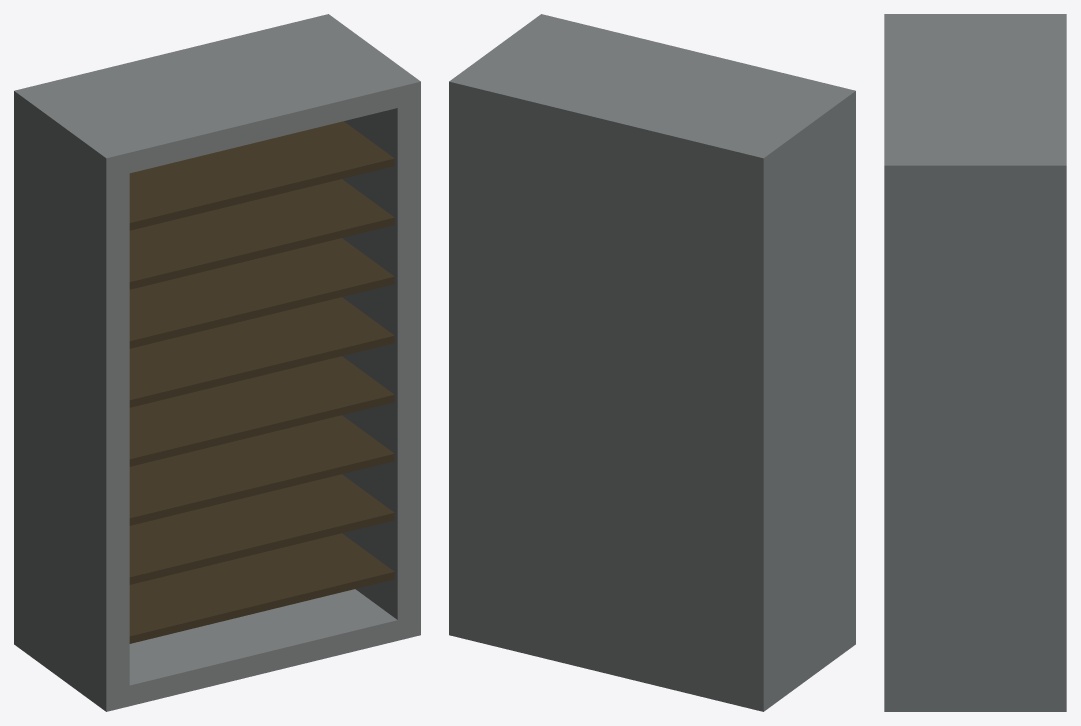
Rendered from Shelf_Enclosed.fbx.
The picture shows the model from 3 angles, left to right: view 1: azimuth 30°, elevation 25°; view 2: azimuth 150°, elevation 25°; view 3: azimuth 270°, elevation 25°; orthographic projection.
Visible parts, largest first — view 1: Shelf_Enclosure, Shelves_geo; view 2: Shelf_Enclosure; view 3: Shelf_Enclosure.
Part boxes in pixels (x1=…): Shelf_Enclosure: x1=14, y1=14, x2=420, y2=711; Shelves_geo: x1=129, y1=121, x2=394, y2=643; Shelf_Enclosure: x1=449, y1=14, x2=855, y2=711; Shelf_Enclosure: x1=884, y1=14, x2=1066, y2=711.
Bounding box in the file's own units: 234 × 394 × 119.
